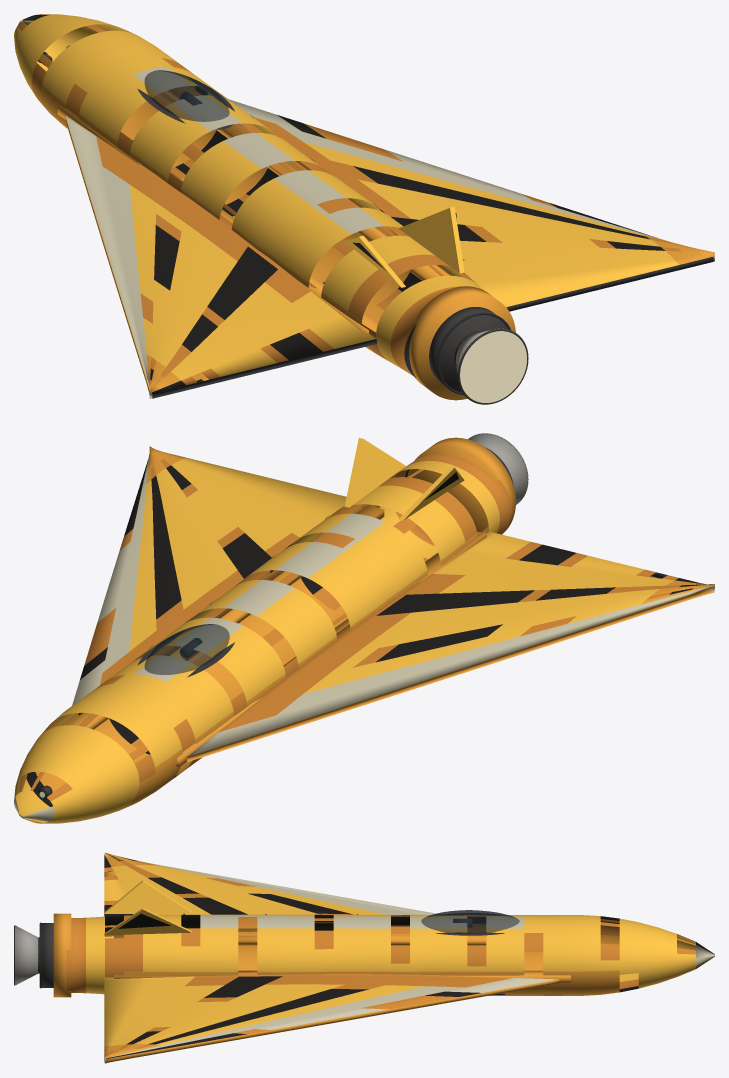
The model's file is Ship_TigerWing_8.glb.
The picture shows the model from 3 angles, top to bottom: view 1: azimuth 30°, elevation 25°; view 2: azimuth 150°, elevation 25°; view 3: azimuth 270°, elevation 25°; orthographic projection. The views are drawn at different scales.
Parts seen in each view (by area): view 1: Fuselage_OrganicEllipsoidTaperedBody_BakedPaint, Wing_Left_LongDeltaAerofoil_BakedPaint, Wing_Right_LongDeltaAerofoil_BakedPaint, EngineEmitter, AftCollar_IntegratedSingleEngineBand, CanopyGlass_LowInsetDome, EngineBlock_AftDarkSingleEngineHousing, TailFin_Right_CantedStabilizer, WingRoot_Right_EmbeddedShoulder, WingRoot_Left_EmbeddedShoulder, TailFin_Left_CantedStabilizer; view 2: Fuselage_OrganicEllipsoidTaperedBody_BakedPaint, Wing_Left_LongDeltaAerofoil_BakedPaint, Wing_Right_LongDeltaAerofoil_BakedPaint, AftCollar_IntegratedSingleEngineBand, CanopyGlass_LowInsetDome, TailFin_Right_CantedStabilizer, EngineBell_Center_BroadBurnishedNozzle, WingRoot_Right_EmbeddedShoulder, WingRoot_Left_EmbeddedShoulder, TailFin_Left_CantedStabilizer; view 3: Fuselage_OrganicEllipsoidTaperedBody_BakedPaint, Wing_Right_LongDeltaAerofoil_BakedPaint, Wing_Left_LongDeltaAerofoil_BakedPaint, CanopyGlass_LowInsetDome, TailFin_Left_CantedStabilizer, AftCollar_IntegratedSingleEngineBand, EngineBell_Center_BroadBurnishedNozzle, TailFin_Right_CantedStabilizer, EngineBlock_AftDarkSingleEngineHousing, WingRoot_Right_EmbeddedShoulder, WingRoot_Left_EmbeddedShoulder, TailFin_Right_BakedTrimPatch.
Part boxes in pixels (x1=…): Fuselage_OrganicEllipsoidTaperedBody_BakedPaint: x1=14, y1=14, x2=482, y2=377; Wing_Left_LongDeltaAerofoil_BakedPaint: x1=65, y1=116, x2=377, y2=398; Wing_Right_LongDeltaAerofoil_BakedPaint: x1=228, y1=99, x2=714, y2=311; EngineEmitter: x1=460, y1=331, x2=526, y2=402; AftCollar_IntegratedSingleEngineBand: x1=409, y1=286, x2=515, y2=400; CanopyGlass_LowInsetDome: x1=144, y1=70, x2=229, y2=121; EngineBlock_AftDarkSingleEngineHousing: x1=429, y1=307, x2=508, y2=392; TailFin_Right_CantedStabilizer: x1=398, y1=206, x2=464, y2=273; WingRoot_Right_EmbeddedShoulder: x1=165, y1=86, x2=449, y2=280; WingRoot_Left_EmbeddedShoulder: x1=57, y1=105, x2=377, y2=334; TailFin_Left_CantedStabilizer: x1=345, y1=235, x2=405, y2=287; Fuselage_OrganicEllipsoidTaperedBody_BakedPaint: x1=14, y1=454, x2=511, y2=823; Wing_Left_LongDeltaAerofoil_BakedPaint: x1=186, y1=531, x2=714, y2=762; Wing_Right_LongDeltaAerofoil_BakedPaint: x1=72, y1=446, x2=380, y2=705; AftCollar_IntegratedSingleEngineBand: x1=407, y1=437, x2=515, y2=534; CanopyGlass_LowInsetDome: x1=144, y1=624, x2=229, y2=674; TailFin_Right_CantedStabilizer: x1=344, y1=438, x2=405, y2=507; EngineBell_Center_BroadBurnishedNozzle: x1=468, y1=433, x2=528, y2=504; WingRoot_Right_EmbeddedShoulder: x1=66, y1=504, x2=384, y2=729; WingRoot_Left_EmbeddedShoulder: x1=176, y1=531, x2=486, y2=767; TailFin_Left_CantedStabilizer: x1=398, y1=466, x2=464, y2=520; Fuselage_OrganicEllipsoidTaperedBody_BakedPaint: x1=66, y1=914, x2=714, y2=995; Wing_Right_LongDeltaAerofoil_BakedPaint: x1=104, y1=972, x2=561, y2=1063; Wing_Left_LongDeltaAerofoil_BakedPaint: x1=104, y1=852, x2=484, y2=938; CanopyGlass_LowInsetDome: x1=421, y1=910, x2=519, y2=933; TailFin_Left_CantedStabilizer: x1=104, y1=880, x2=191, y2=913; AftCollar_IntegratedSingleEngineBand: x1=53, y1=913, x2=71, y2=997; EngineBell_Center_BroadBurnishedNozzle: x1=15, y1=925, x2=38, y2=985; TailFin_Right_CantedStabilizer: x1=104, y1=908, x2=191, y2=935; EngineBlock_AftDarkSingleEngineHousing: x1=41, y1=923, x2=53, y2=987; WingRoot_Right_EmbeddedShoulder: x1=114, y1=970, x2=570, y2=982; WingRoot_Left_EmbeddedShoulder: x1=114, y1=934, x2=486, y2=945; TailFin_Right_BakedTrimPatch: x1=118, y1=913, x2=170, y2=928.
Bounding box in the file's own units: 5.41 × 1.25 × 7.83.
